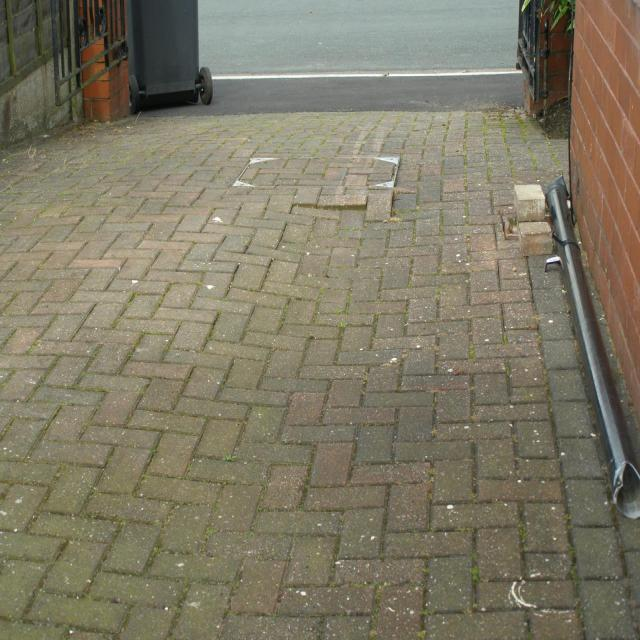sunken_block: (121, 184, 438, 540)
